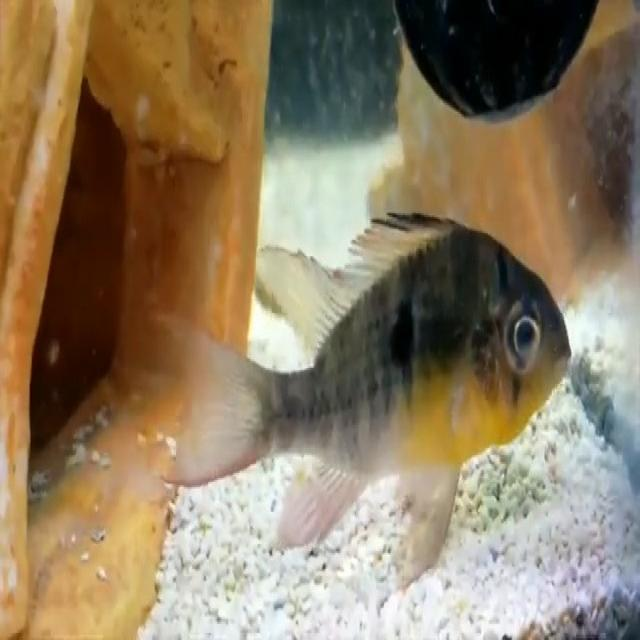fish: (146, 202, 580, 592)
